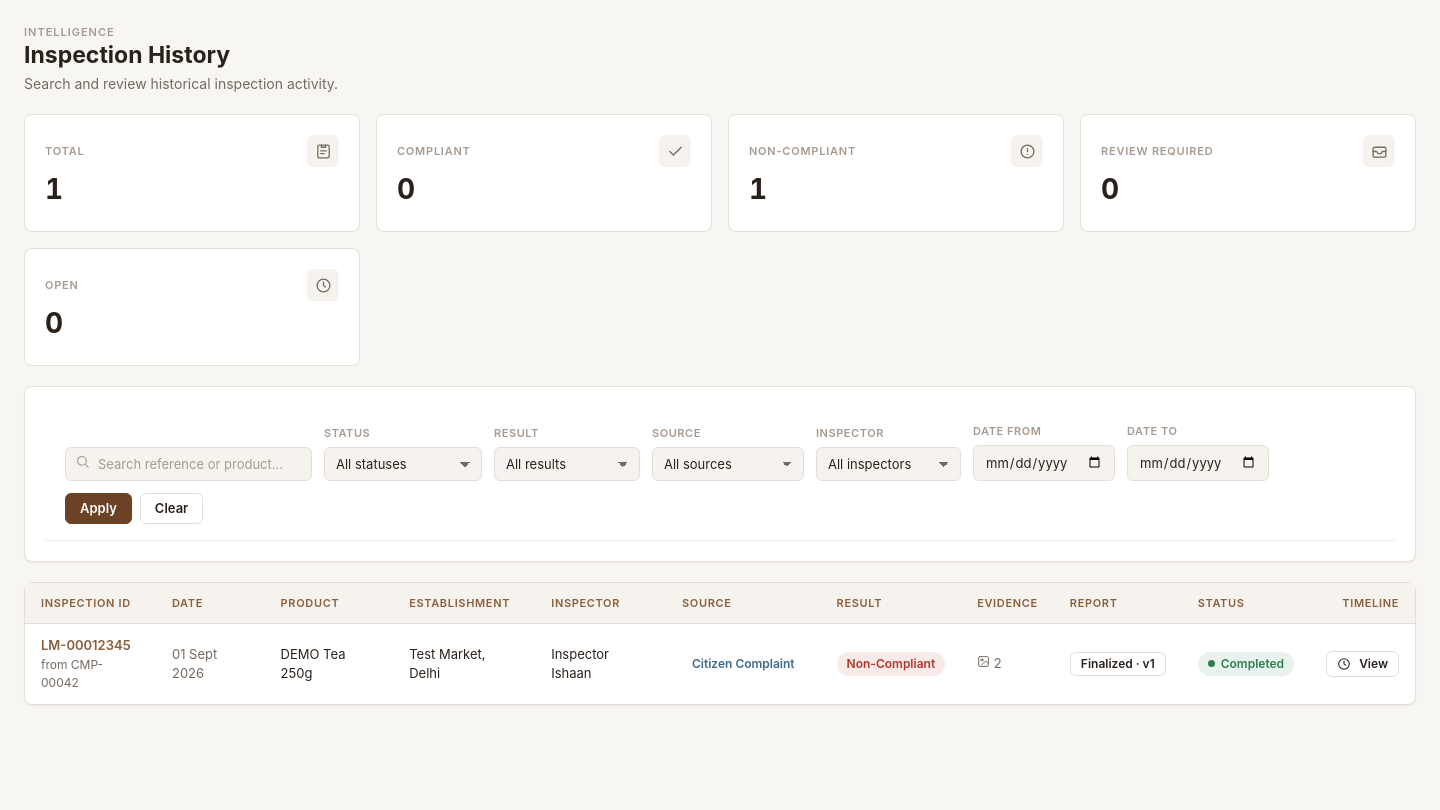
Test: HistoryPage (UI-09 §6-§8, §25) › shows only recorded timeline events — never fabricated stages (§8)
Click the button "View" at (1363, 664), box top-left (1326, 651), bottom-right (1399, 677)
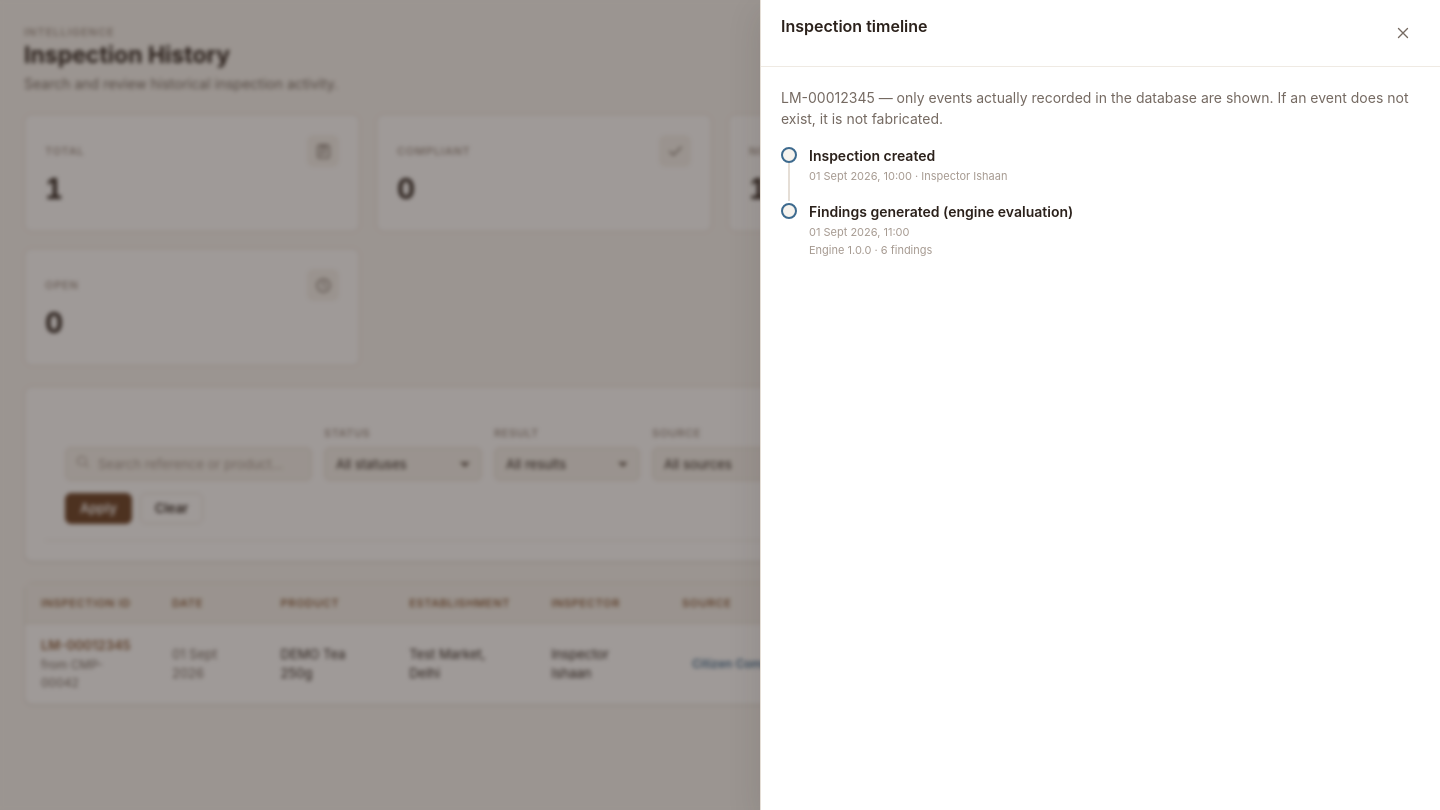
expect the heading "Inspection timeline" is shown: met, box top-left (781, 16), bottom-right (928, 36)
expect the text "Inspection created" is shown: met, box top-left (809, 147), bottom-right (935, 164)
expect the text "Findings generated (engine evaluation)" is shown: met, box top-left (809, 200), bottom-right (1073, 222)
